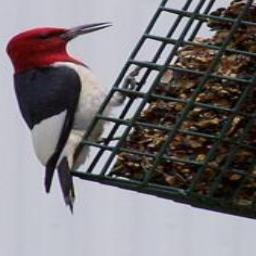Woodpecker: (3, 21, 142, 214)
